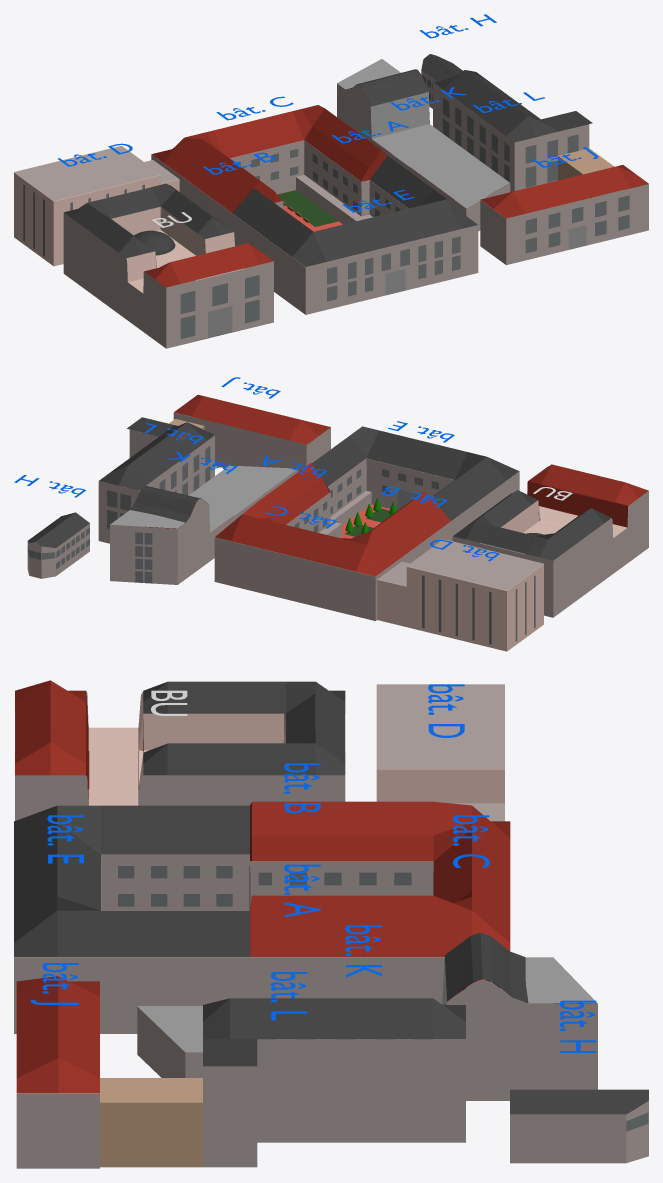
The model's file is bat5.glb.
3 renders of one model, top to bottom at view 1: azimuth 30°, elevation 25°; view 2: azimuth 150°, elevation 25°; view 3: azimuth 270°, elevation 25°, orthographic. The views are drawn at different scales.
Parts seen in each view (by area): view 1: toits, Bâtiment principal, Cube.001, Cube.005, Cube.006, Cube, Cube.004, sol fac; view 2: toits, Bâtiment principal, Cube, Cube.004, Cube.001, Cube.006, Cube.005, Cube.007, sol fac; view 3: toits, Cube.006, Bâtiment principal, Cube.004, Cube.001, Cube.007, Cube.005, Cube, Texte.001, Texte.003, Texte.007, Texte.006 (+3 smaller).
Part boxes in pixels (bbox=[...]): toits: bbox=[14, 54, 648, 293]; Bâtiment principal: bbox=[151, 140, 478, 314]; Cube.001: bbox=[63, 213, 273, 348]; Cube.005: bbox=[480, 184, 648, 265]; Cube.006: bbox=[433, 82, 622, 198]; Cube: bbox=[14, 172, 179, 266]; Cube.004: bbox=[337, 83, 510, 231]; sol fac: bbox=[277, 190, 342, 231]; toits: bbox=[28, 394, 648, 590]; Bâtiment principal: bbox=[214, 458, 519, 620]; Cube: bbox=[377, 564, 543, 651]; Cube.004: bbox=[110, 469, 298, 584]; Cube.001: bbox=[452, 483, 648, 617]; Cube.006: bbox=[98, 419, 214, 543]; Cube.005: bbox=[173, 412, 330, 471]; Cube.007: bbox=[27, 523, 89, 578]; sol fac: bbox=[340, 498, 397, 538]; toits: bbox=[14, 680, 648, 1114]; Cube.006: bbox=[93, 1039, 465, 1167]; Bâtiment principal: bbox=[14, 854, 444, 1033]; Cube.004: bbox=[137, 979, 597, 1100]; Cube.001: bbox=[15, 691, 345, 820]; Cube.007: bbox=[510, 1100, 648, 1163]; Cube.005: bbox=[16, 1093, 99, 1168]; Cube: bbox=[376, 769, 504, 803]; Texte.001: bbox=[428, 684, 464, 737]; Texte.003: bbox=[284, 763, 320, 813]; Texte.007: bbox=[559, 1000, 596, 1052]; Texte.006: bbox=[345, 925, 381, 977].
Size of the model in its own units: 17.59 by 2.69 by 12.02.
